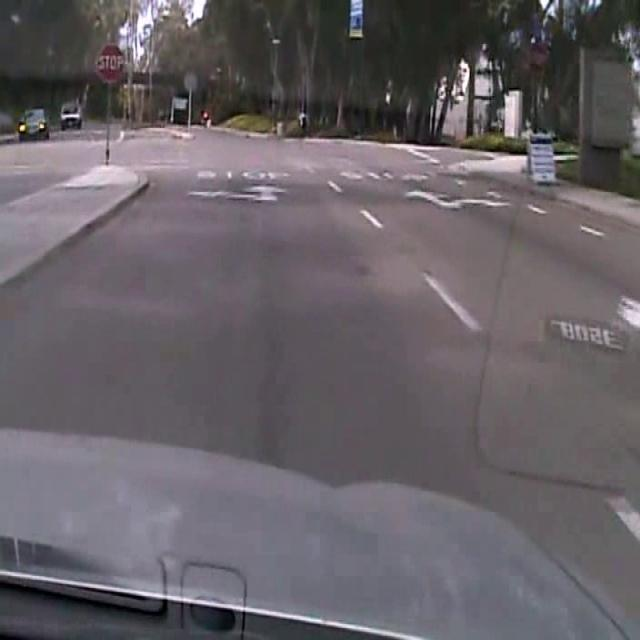stop: (94, 41, 124, 84)
